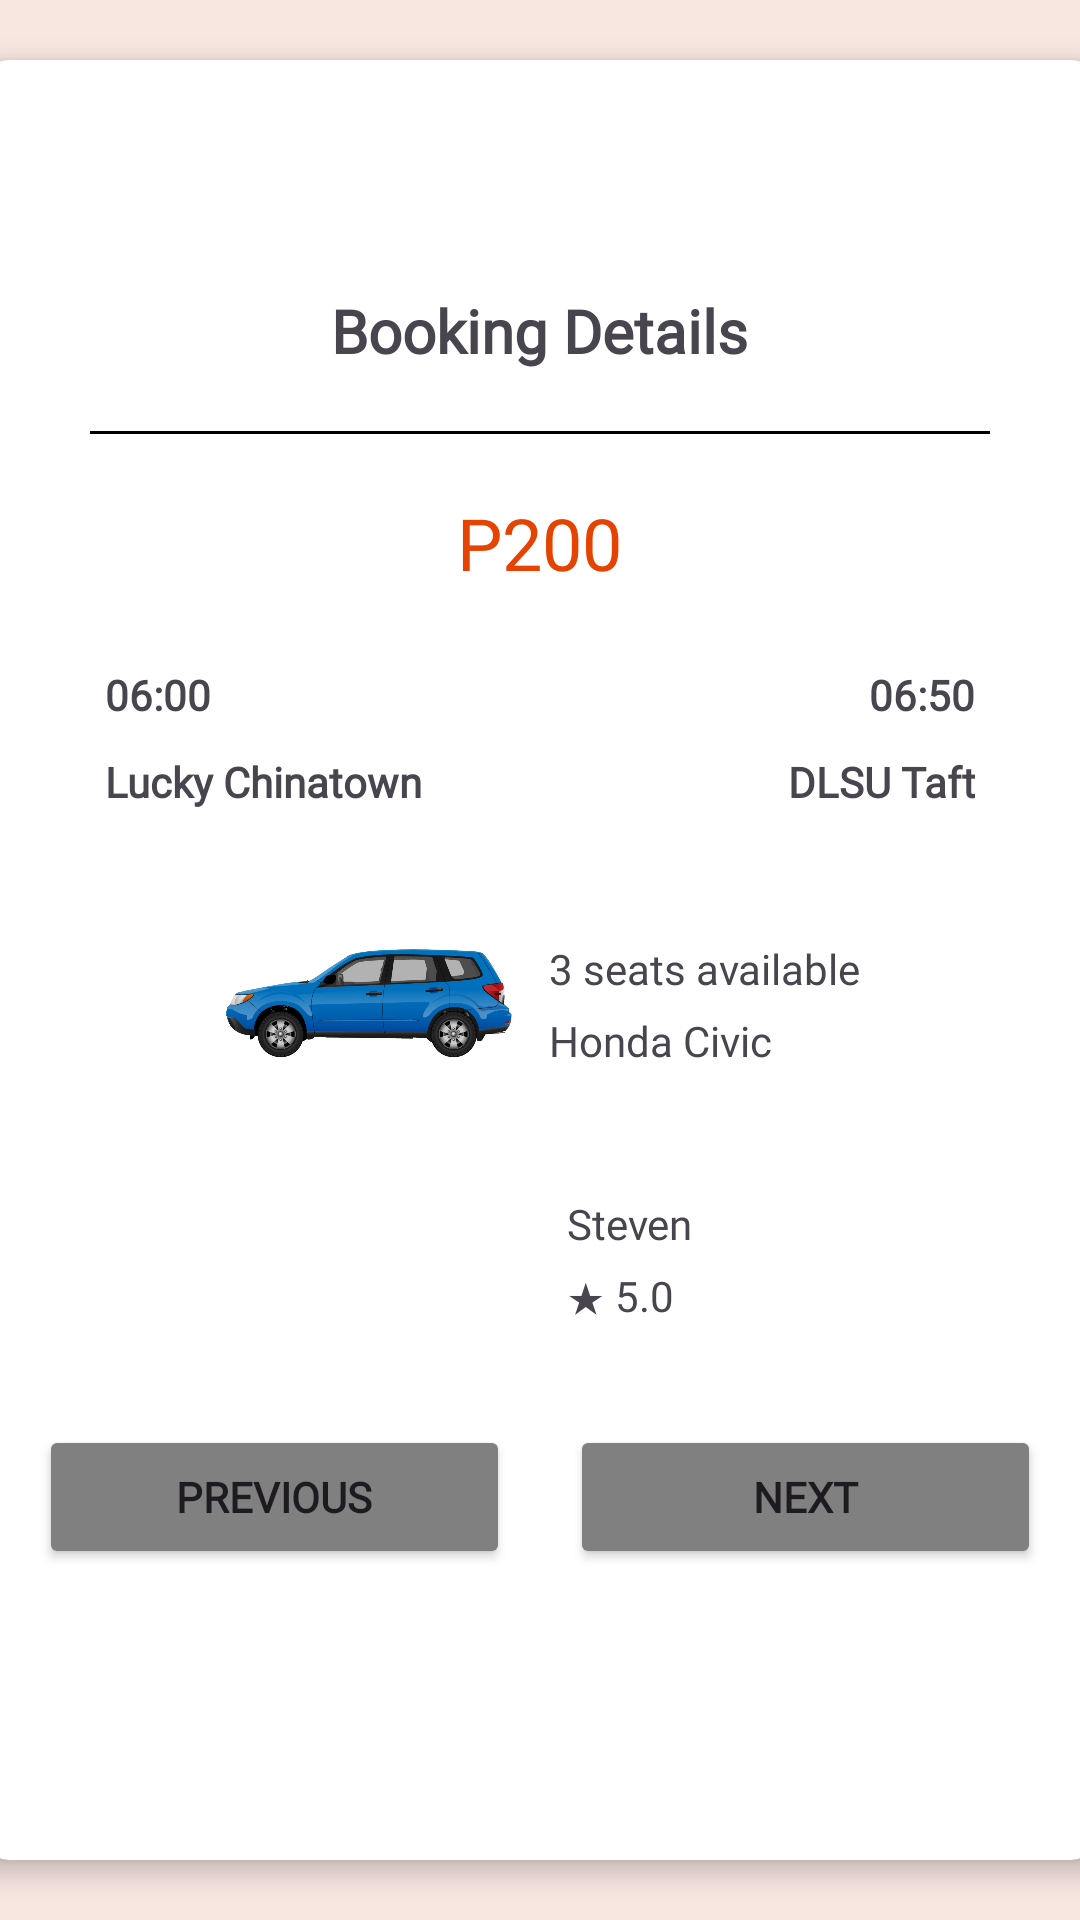

Point at icon controls on the screen. Image size 1080x1920, points as (x=x, y=y).
hatchback: (x=369, y=1003)
